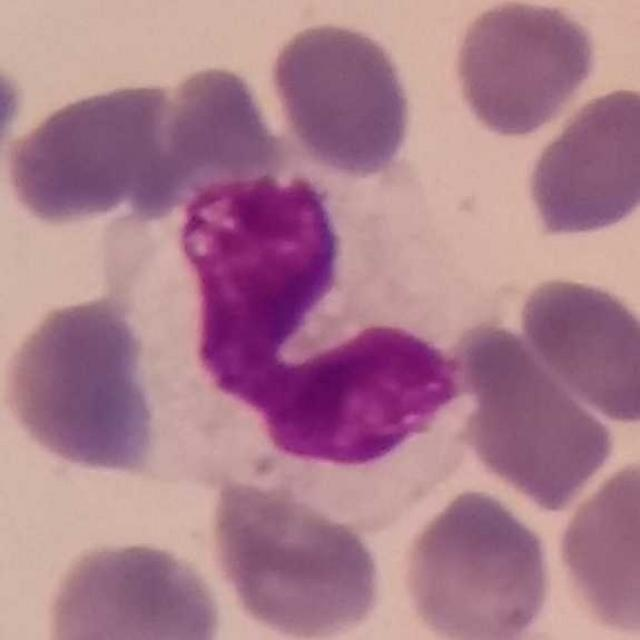Monocyte: (113, 163, 498, 537)
RBC: (455, 319, 620, 512), (202, 473, 390, 640), (0, 292, 164, 478), (395, 485, 558, 640), (266, 17, 417, 179), (0, 76, 158, 229), (447, 0, 601, 140), (39, 534, 228, 640), (514, 271, 640, 425), (521, 81, 640, 243), (552, 454, 640, 639), (158, 60, 285, 186)
